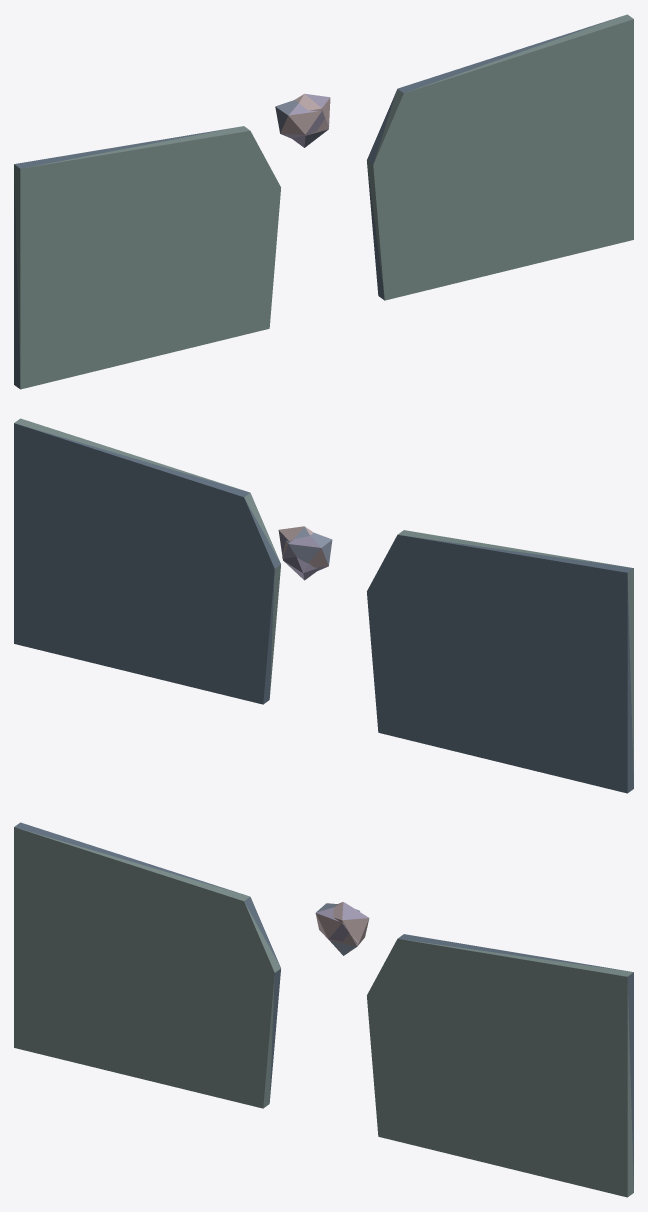
Rendered from environment-foreground.glb.
The picture shows the model from 3 angles, top to bottom: view 1: azimuth 30°, elevation 25°; view 2: azimuth 150°, elevation 25°; view 3: azimuth 330°, elevation 25°; orthographic projection.
Parts seen in each view (by area): view 1: ShoreRight, ShoreLeft, RockSourceFrameLeft, RockSourceFrameRight; view 2: ShoreRight, ShoreLeft, RockSourceFrameLeft, RockSourceFrameRight; view 3: ShoreLeft, ShoreRight, RockSourceFrameRight, RockSourceFrameLeft.
Boxes of the visible parts, <box> form: ShoreRight: <box>367,14,633,300</box>; ShoreLeft: <box>14,126,280,389</box>; RockSourceFrameLeft: <box>275,100,329,138</box>; RockSourceFrameRight: <box>292,93,330,147</box>; ShoreRight: <box>14,418,280,704</box>; ShoreLeft: <box>367,530,633,793</box>; RockSourceFrameLeft: <box>282,532,332,571</box>; RockSourceFrameRight: <box>278,526,318,580</box>; ShoreLeft: <box>14,822,280,1108</box>; ShoreRight: <box>367,934,633,1197</box>; RockSourceFrameRight: <box>329,902,369,955</box>; RockSourceFrameLeft: <box>315,903,359,944</box>.
Size of the model in its own units: 32 by 11 by 2.91.
